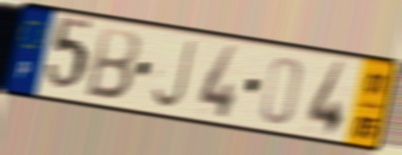0: (258, 54, 304, 127)
4: (305, 57, 348, 140), (196, 41, 240, 122)
5: (43, 14, 97, 99)
B: (81, 24, 142, 104)
J: (150, 37, 199, 112)
